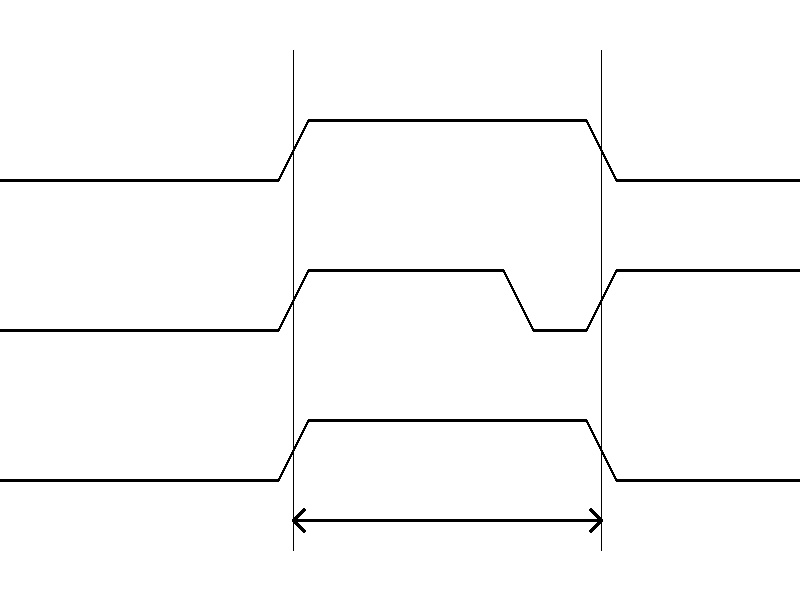double_arrow: (293, 505, 601, 535)
